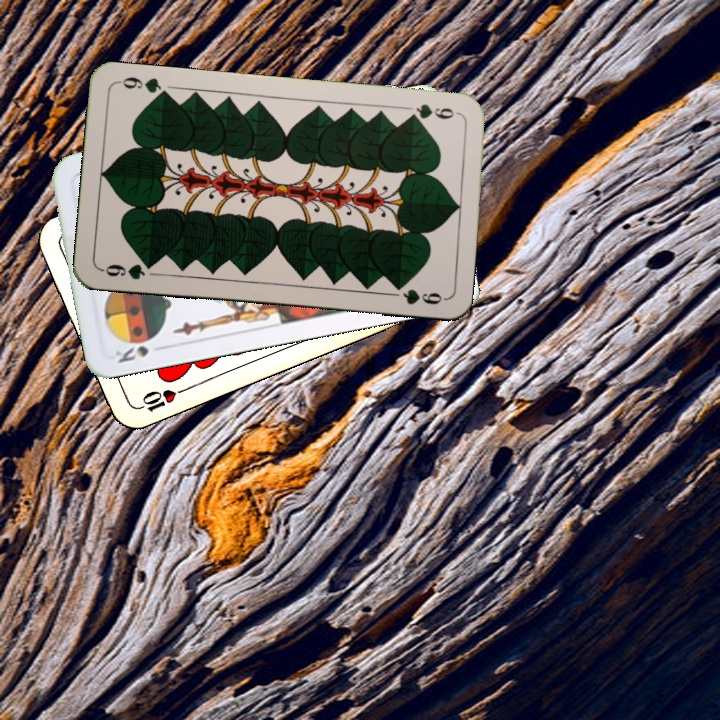G9: (98, 258, 158, 282), (403, 100, 462, 122)
H10: (131, 385, 179, 415)
SK: (111, 341, 152, 366)
